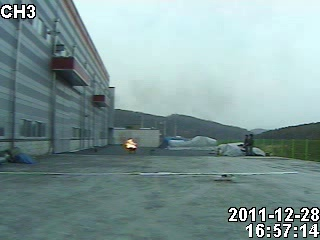fire: (121, 136, 140, 151)
